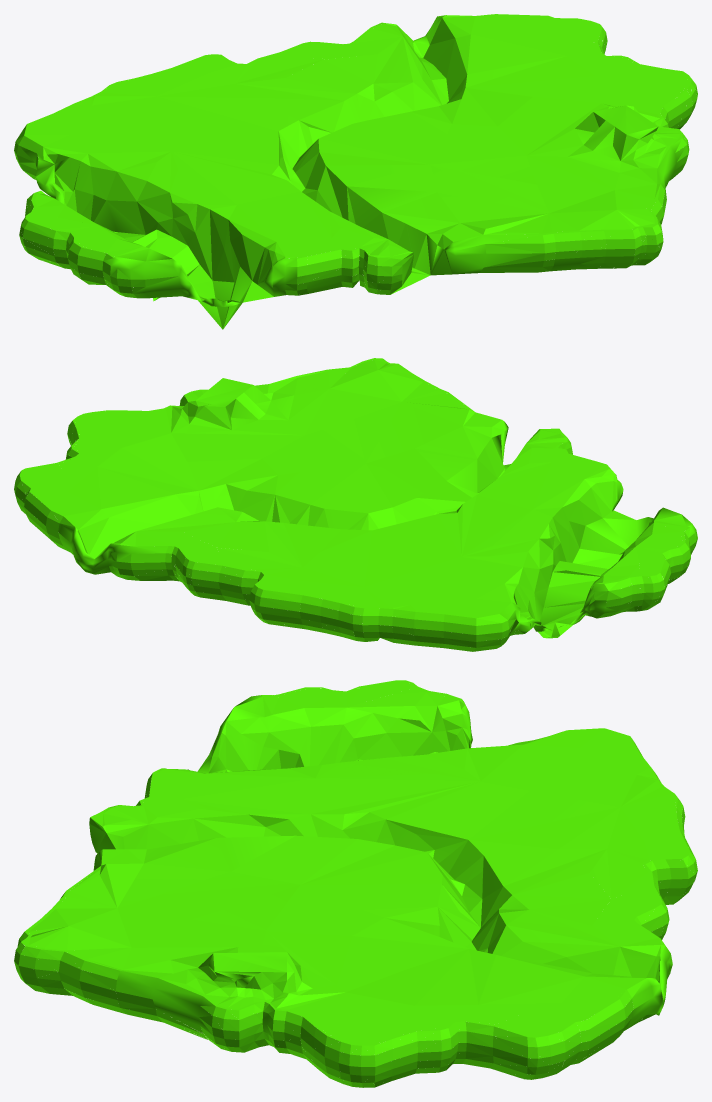
Rendered from Map.glb.
The picture shows the model from 3 angles, top to bottom: view 1: azimuth 30°, elevation 25°; view 2: azimuth 150°, elevation 25°; view 3: azimuth 270°, elevation 25°; orthographic projection. The views are drawn at different scales.
Visible parts, largest first — view 1: PipoIsland; view 2: PipoIsland; view 3: PipoIsland.
Part boxes in pixels (left/top/right/bottom): PipoIsland: left=14, top=14, right=697, bottom=329; PipoIsland: left=14, top=358, right=697, bottom=651; PipoIsland: left=14, top=680, right=697, bottom=1087.
Size of the model in its own units: 527 by 69.73 by 410.
